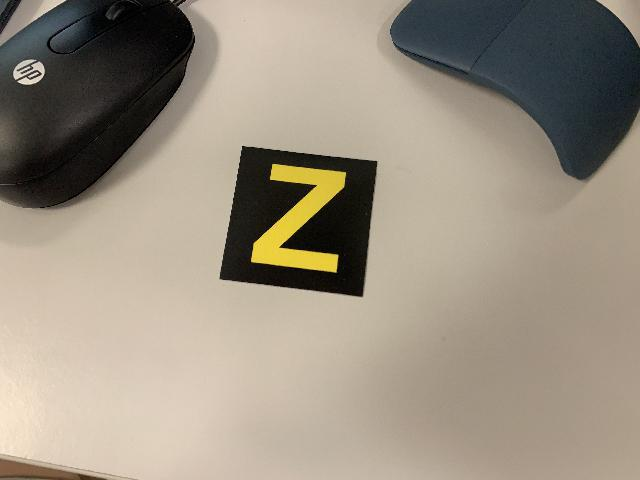z: (216, 144, 379, 300)
